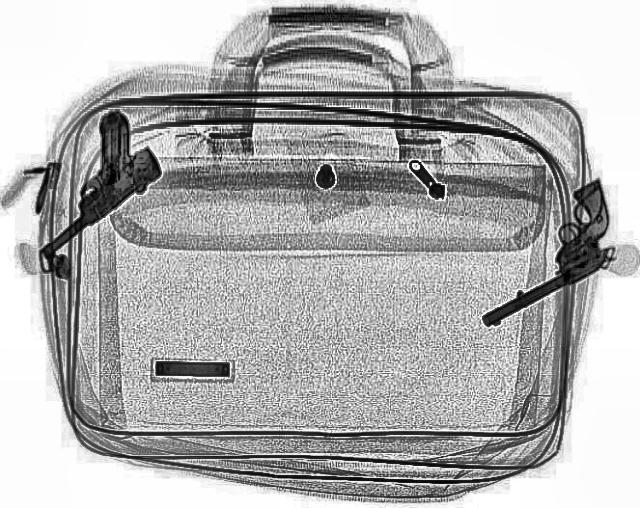Gun: (434, 188, 638, 322), (0, 106, 186, 241)
